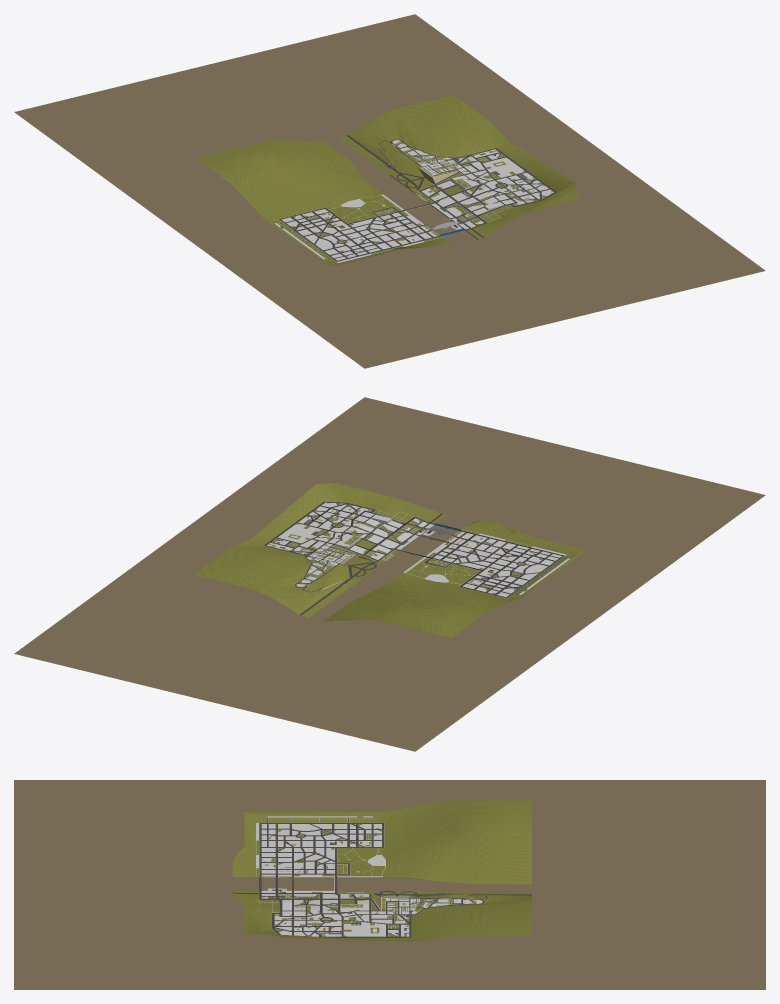
Rendered from RCCP_City_Atlased_V2.fbx.
The picture shows the model from 3 angles, top to bottom: view 1: azimuth 30°, elevation 25°; view 2: azimuth 150°, elevation 25°; view 3: azimuth 270°, elevation 25°; orthographic projection. The views are drawn at different scales.
Visible parts, largest first — view 1: Sea2, Grass, Block_00, Roads, Sea; view 2: Sea2, Grass, Block_00, Roads, Sea; view 3: Sea2, Grass, Block_00, Roads, Sea.
Part boxes in pixels (x1,y1,x2,y2): Sea2: (14,14,765,368); Grass: (196,95,578,265); Block_00: (275,140,553,262); Roads: (277,135,556,261); Sea: (325,138,478,246); Sea2: (14,397,765,751); Grass: (194,483,584,637); Block_00: (267,502,569,598); Roads: (264,501,567,615); Sea: (309,516,471,621); Sea2: (14,780,765,989); Grass: (232,800,531,941); Block_00: (232,816,482,936); Roads: (232,816,531,937); Sea: (232,855,531,891).
Bounding box in the file's own units: 219398 × 10748 × 332060.
